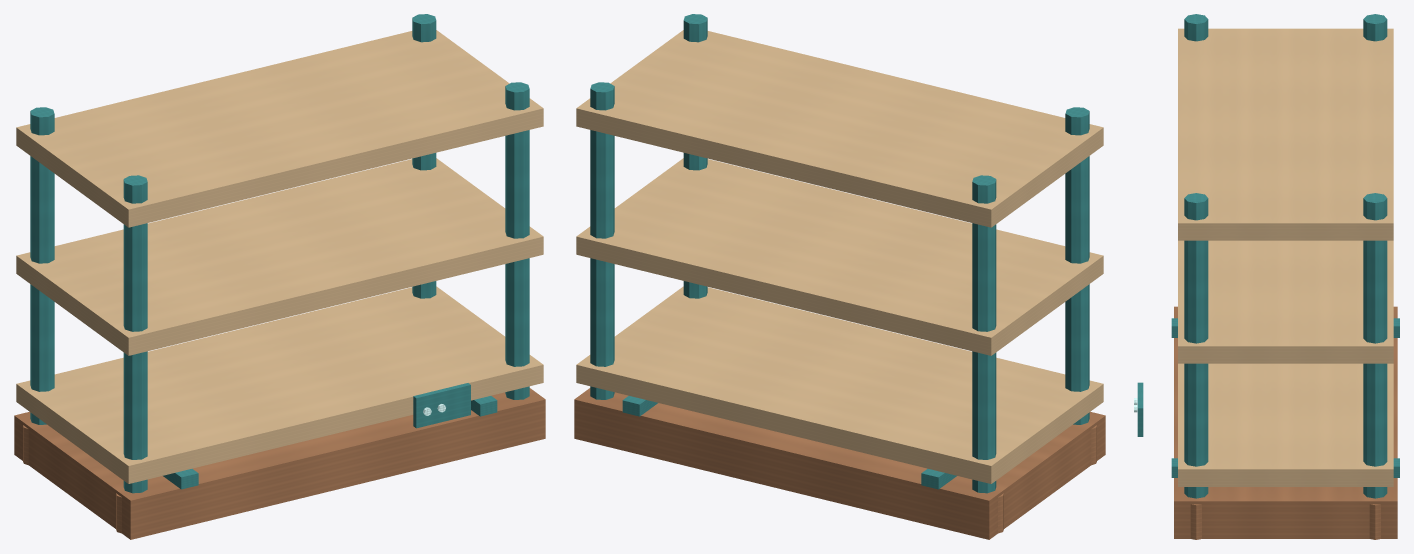
Rendered from atlas100-s093-a06.glb.
The picture shows the model from 3 angles, left to right: view 1: azimuth 30°, elevation 25°; view 2: azimuth 150°, elevation 25°; view 3: azimuth 270°, elevation 25°; orthographic projection. The views are drawn at different scales.
Visible parts, largest first — view 1: atlas100-s093-a06:part-013, atlas100-s093-a06:part-012, atlas100-s093-a06:part-011, atlas100-s093-a06:part-000, atlas100-s093-a06:part-005, atlas100-s093-a06:part-009, atlas100-s093-a06:part-003, atlas100-s093-a06:part-014, atlas100-s093-a06:part-007; view 2: atlas100-s093-a06:part-013, atlas100-s093-a06:part-011, atlas100-s093-a06:part-012, atlas100-s093-a06:part-000, atlas100-s093-a06:part-003, atlas100-s093-a06:part-007, atlas100-s093-a06:part-005, atlas100-s093-a06:part-009; view 3: atlas100-s093-a06:part-013, atlas100-s093-a06:part-012, atlas100-s093-a06:part-011, atlas100-s093-a06:part-000, atlas100-s093-a06:part-009, atlas100-s093-a06:part-007, atlas100-s093-a06:part-003, atlas100-s093-a06:part-005, atlas100-s093-a06:part-008, atlas100-s093-a06:part-010, atlas100-s093-a06:part-014.
Boxes of the visible parts, x1,y1,x2,y2 form: atlas100-s093-a06:part-013: (16, 30, 543, 227); atlas100-s093-a06:part-012: (16, 158, 543, 355); atlas100-s093-a06:part-011: (16, 286, 543, 483); atlas100-s093-a06:part-000: (14, 388, 545, 539); atlas100-s093-a06:part-005: (123, 175, 147, 493); atlas100-s093-a06:part-009: (505, 82, 529, 399); atlas100-s093-a06:part-003: (30, 107, 54, 424); atlas100-s093-a06:part-014: (413, 383, 470, 428); atlas100-s093-a06:part-007: (412, 14, 436, 298); atlas100-s093-a06:part-013: (576, 30, 1103, 227); atlas100-s093-a06:part-011: (576, 286, 1103, 483); atlas100-s093-a06:part-012: (576, 158, 1103, 355); atlas100-s093-a06:part-000: (574, 388, 1105, 539); atlas100-s093-a06:part-003: (972, 175, 996, 493); atlas100-s093-a06:part-007: (590, 82, 614, 399); atlas100-s093-a06:part-005: (1065, 107, 1089, 424); atlas100-s093-a06:part-009: (683, 14, 707, 298); atlas100-s093-a06:part-013: (1178, 28, 1393, 240); atlas100-s093-a06:part-012: (1178, 240, 1393, 363); atlas100-s093-a06:part-011: (1178, 363, 1393, 486); atlas100-s093-a06:part-000: (1174, 306, 1397, 538); atlas100-s093-a06:part-009: (1184, 193, 1208, 498); atlas100-s093-a06:part-007: (1363, 193, 1387, 498); atlas100-s093-a06:part-003: (1363, 14, 1387, 41); atlas100-s093-a06:part-005: (1184, 14, 1208, 41); atlas100-s093-a06:part-008: (1369, 504, 1380, 539); atlas100-s093-a06:part-010: (1190, 504, 1201, 539); atlas100-s093-a06:part-014: (1137, 382, 1143, 436).
Bounding box in the file's own units: 2.91 × 2.3 × 1.66.
4 materials, 4 textured.
